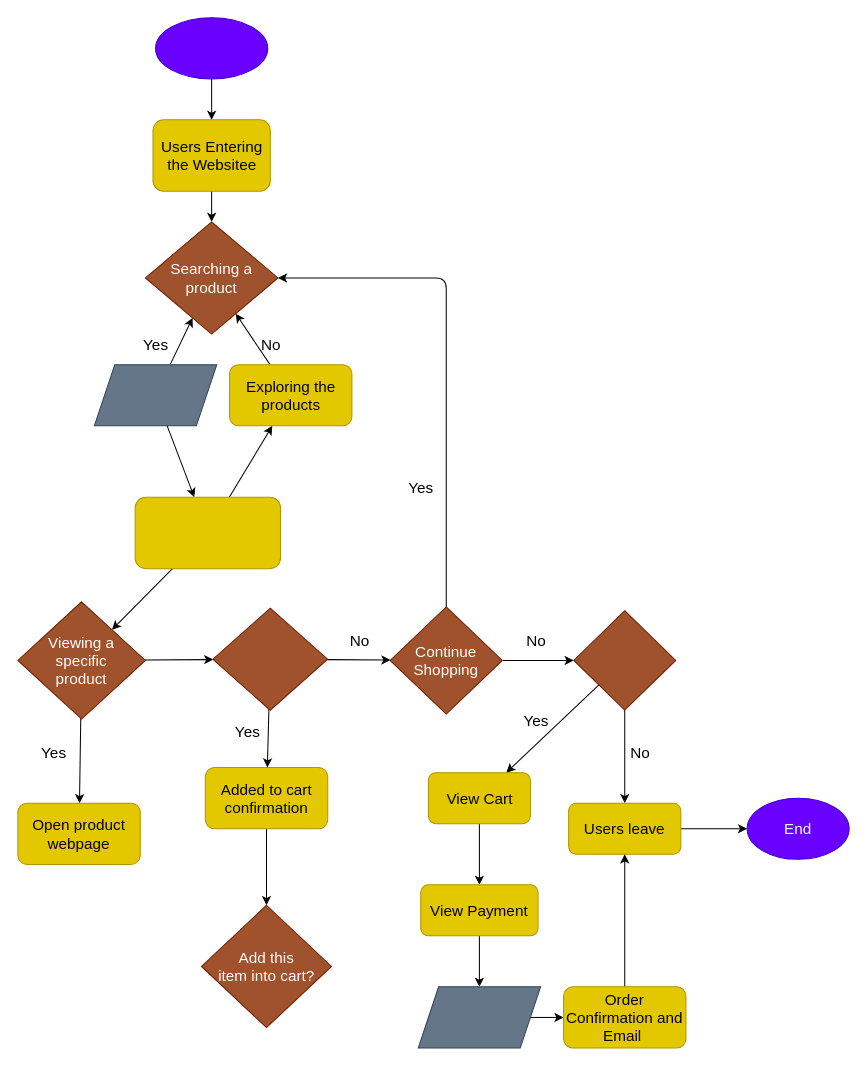
Image size: 867x1066. Some labels were removed from this diagram. The shapes that lost their labels are listed below. From the top down, each one's centre as x and y in pixels, then its label:
At pixel 211 48: "Start".
At pixel 155 395: "User Input".
At pixel 207 532: "Looking over the products".
At pixel 270 658: "User add product into cart".
At pixel 624 660: "Checkout".
At pixel 479 1017: "Payment information".
